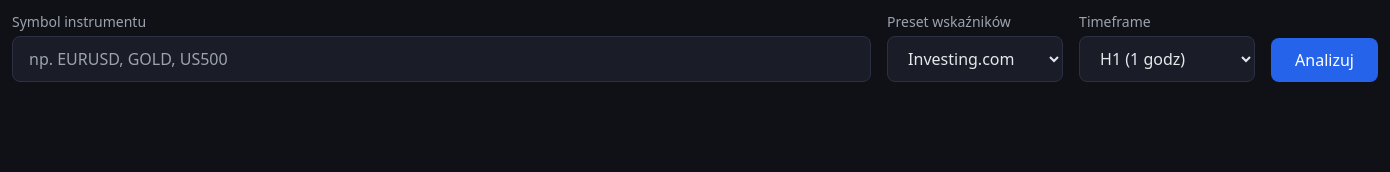
Test: AnalysisForm › walidacja — puste pole symbol pokazuje błąd
The width and height of the screenshot is (1390, 172).
Click the button "Analizuj": (1325, 60) [1271,38,1378,82]
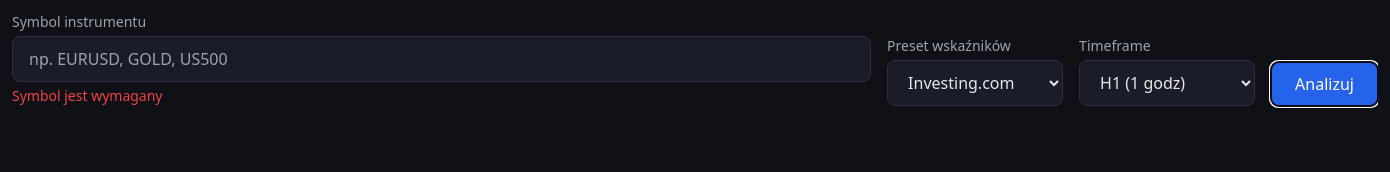
Expected: the text "Symbol jest wymagany" is shown, [12,86,162,105]
